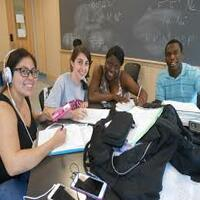person: (152, 32, 200, 90), (98, 34, 132, 104), (2, 47, 37, 106), (62, 40, 93, 96)
